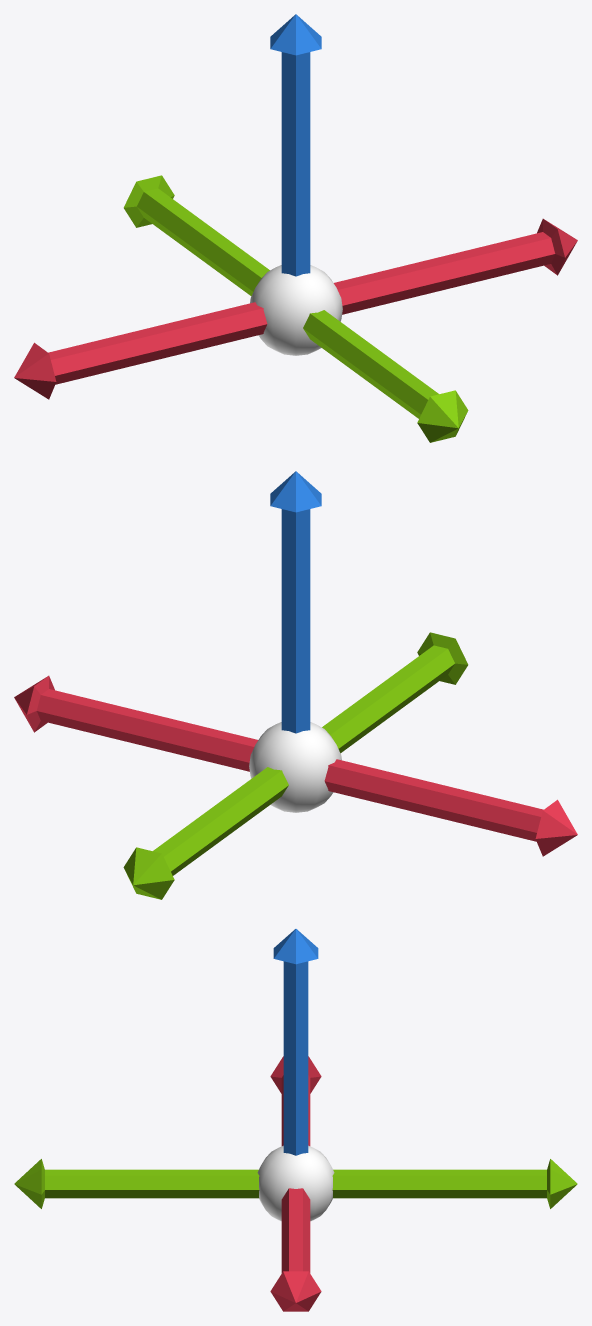
Rendered from ModelAnchor.glb.
The picture shows the model from 3 angles, top to bottom: view 1: azimuth 30°, elevation 25°; view 2: azimuth 150°, elevation 25°; view 3: azimuth 270°, elevation 25°; orthographic projection. The views are drawn at different scales.
Visible parts, largest first — view 1: Cylinder; view 2: Cylinder; view 3: Cylinder.
Boxes of the visible parts, x1,y1,x2,y2 form: Cylinder: (14,14,577,442); Cylinder: (14,471,577,899); Cylinder: (14,929,577,1311).
Bounding box in the file's own units: 2.34 × 1.34 × 2.34.
